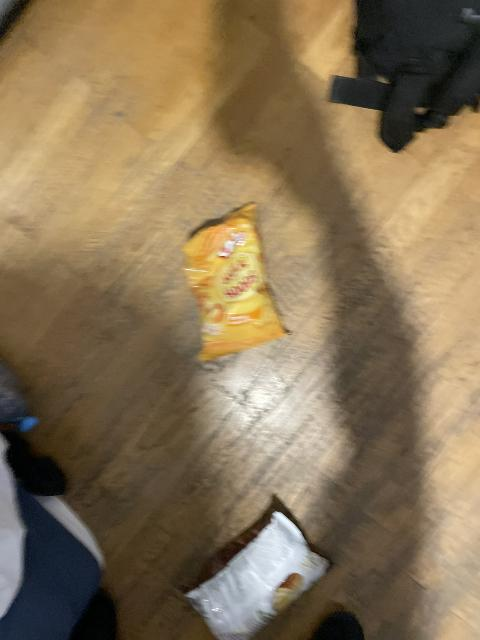Chio Hula Hoops Cheese 70g: (182, 202, 291, 361)
Lays Beef Grilled Ribs 125g: (176, 496, 333, 638)
